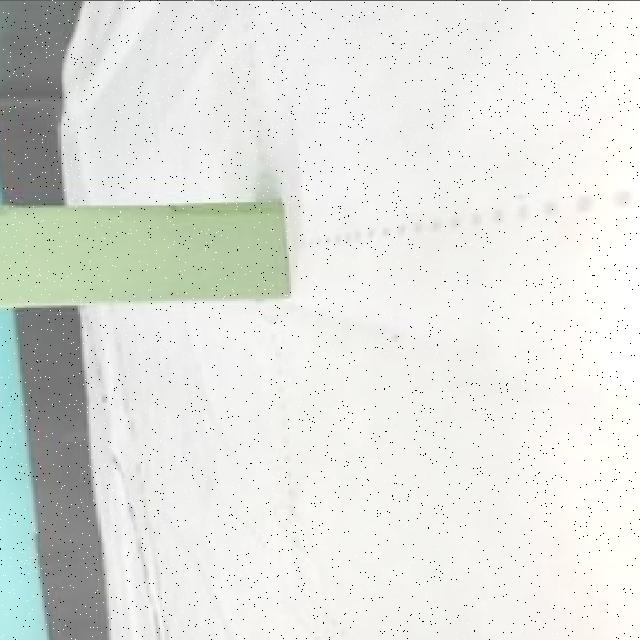greenbox: (0, 193, 291, 309)
